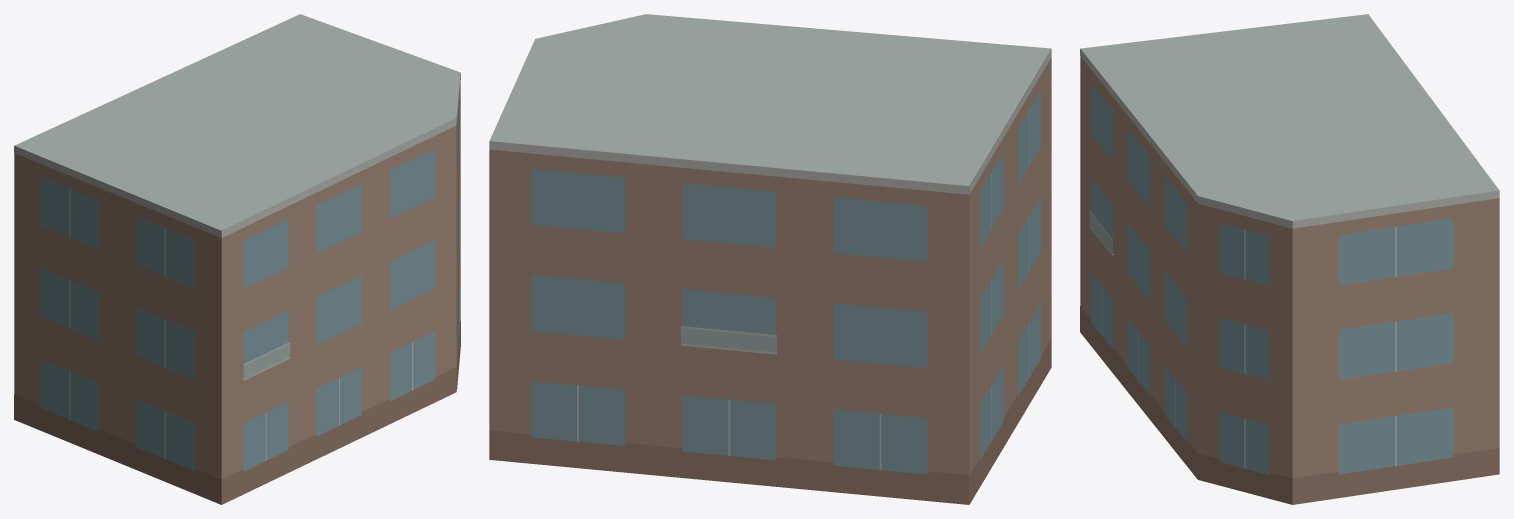
The model's file is survey-upis-32622857.glb.
3 views of the same model, side by side, from view 1: azimuth 30°, elevation 25°; view 2: azimuth 150°, elevation 25°; view 3: azimuth 270°, elevation 25° (orthographic). The views are drawn at different scales.
Parts seen in each view (by area): view 1: survey-upis-32622857.tmp; view 2: survey-upis-32622857.tmp; view 3: survey-upis-32622857.tmp.
Part boxes in pixels (bbox=[...]): survey-upis-32622857.tmp: bbox=[14, 14, 460, 504]; survey-upis-32622857.tmp: bbox=[489, 14, 1051, 504]; survey-upis-32622857.tmp: bbox=[1080, 14, 1499, 504].
Size of the model in its own units: 14.33 by 9.15 by 12.27.
